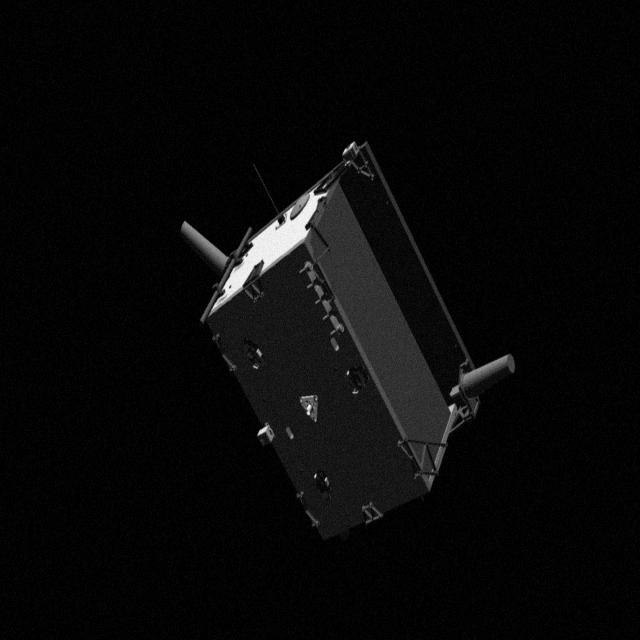satellite: (178, 138, 518, 542)
